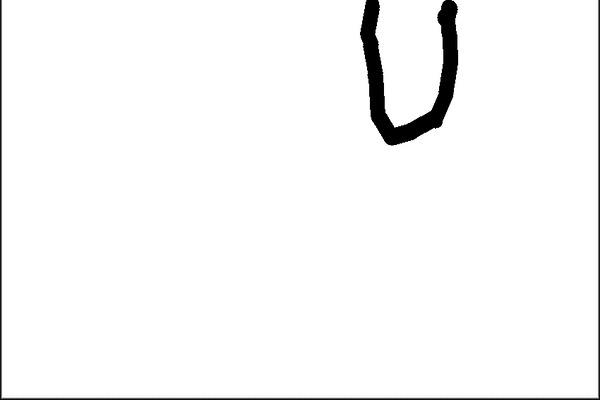U: (341, 0, 466, 147)
